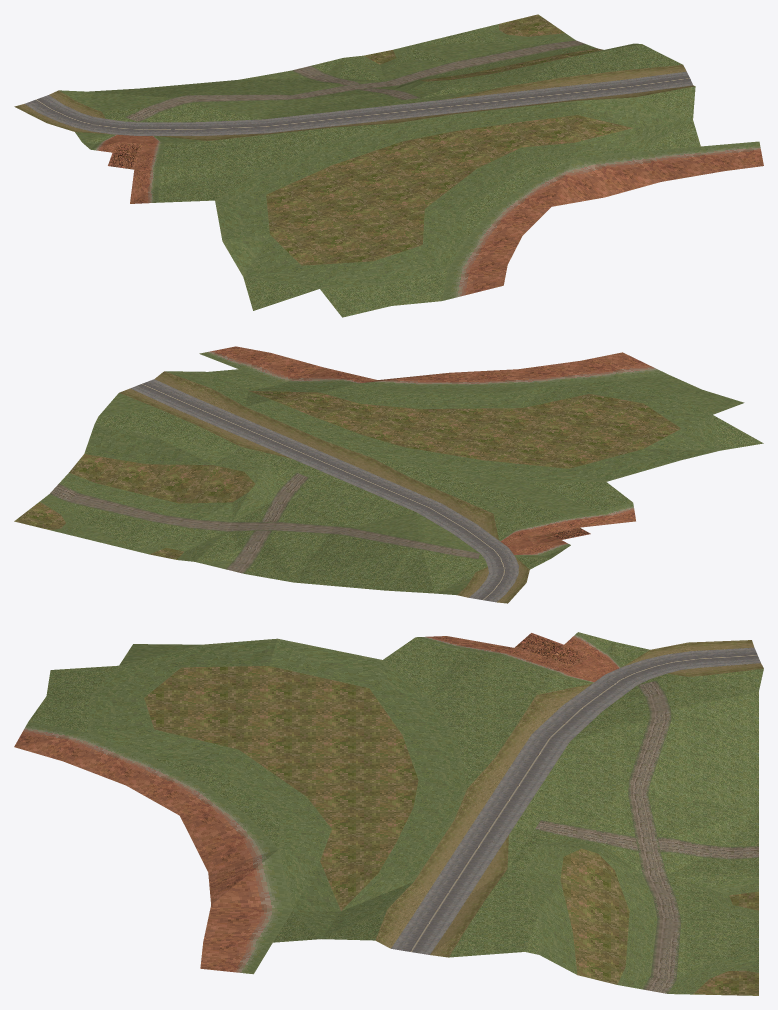
The model's file is lod_se_bit_14.obj.
The picture shows the model from 3 angles, top to bottom: view 1: azimuth 30°, elevation 25°; view 2: azimuth 150°, elevation 25°; view 3: azimuth 270°, elevation 25°; orthographic projection. The views are drawn at different scales.
Visible parts, largest first — view 1: lod_se_bit_14; view 2: lod_se_bit_14; view 3: lod_se_bit_14.
Part boxes in pixels (x1=…): lod_se_bit_14: x1=14, y1=14, x2=763, y2=317; lod_se_bit_14: x1=14, y1=346, x2=763, y2=603; lod_se_bit_14: x1=14, y1=632, x2=763, y2=995.
Bounding box in the file's own units: 244 × 19.99 × 235.
12 materials, 12 textured.
